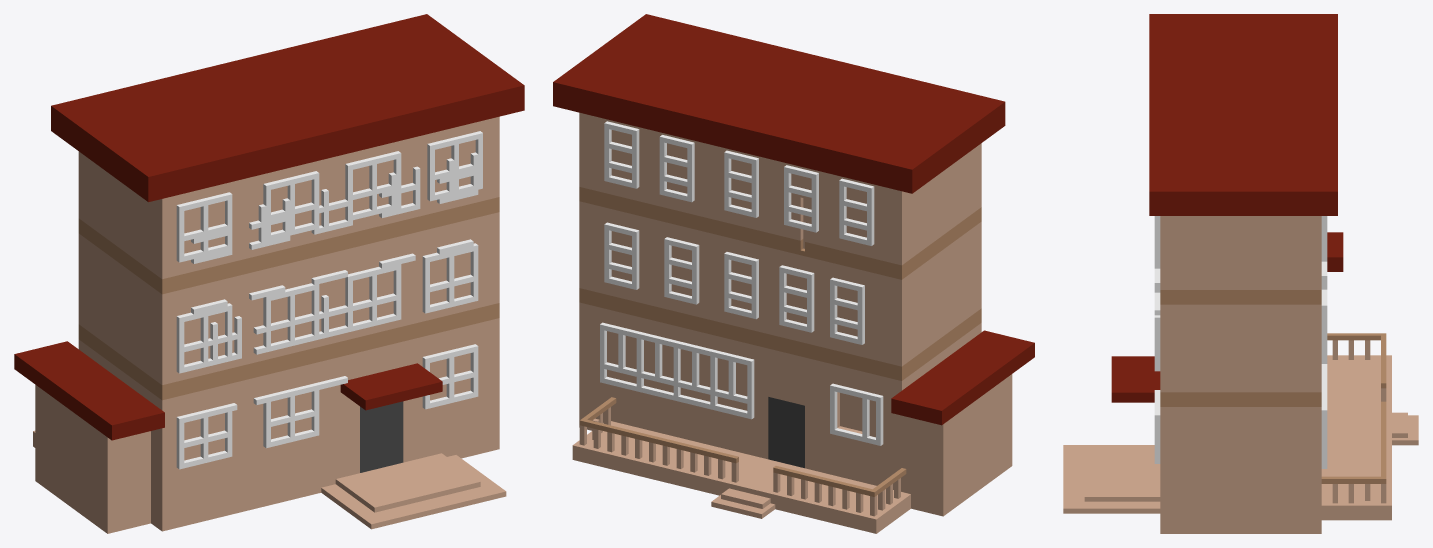
File: house6.obj
3 views of the same model, side by side, from view 1: azimuth 30°, elevation 25°; view 2: azimuth 150°, elevation 25°; view 3: azimuth 270°, elevation 25° (orthographic). The views are drawn at different scales.
Bounding box in the file's own units: 8.5 × 7.2 × 6.6.
Materials: 1 (1 with a texture image).
